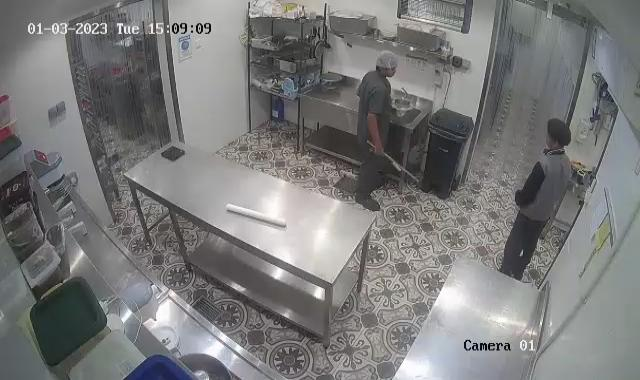hairnet: (374, 50, 399, 78)
no_hairnet: (545, 118, 573, 149)
